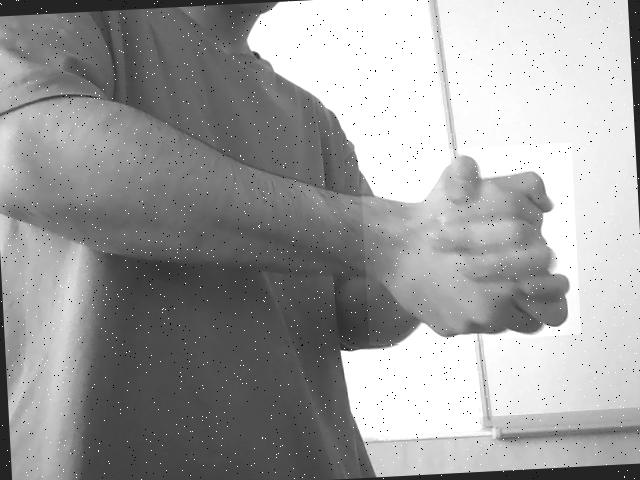friend: (366, 149, 580, 342)
